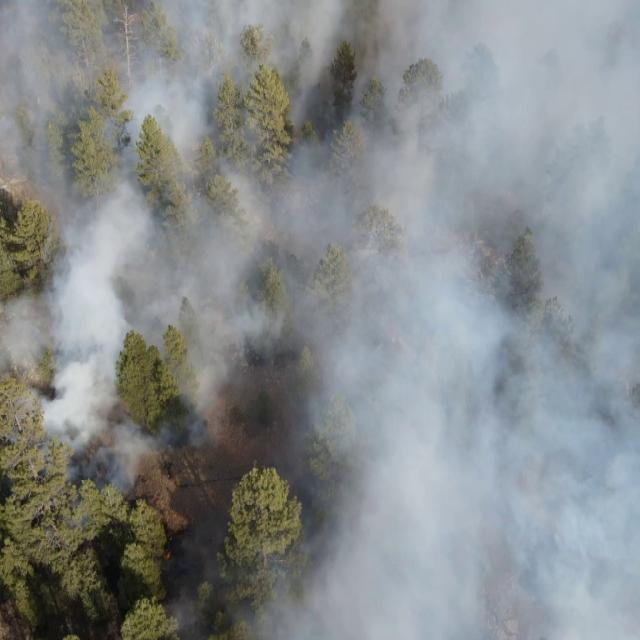fire: (165, 534, 174, 562)
smoke: (178, 0, 640, 640), (0, 0, 177, 190), (0, 296, 117, 548), (51, 188, 176, 348), (116, 418, 176, 492)
